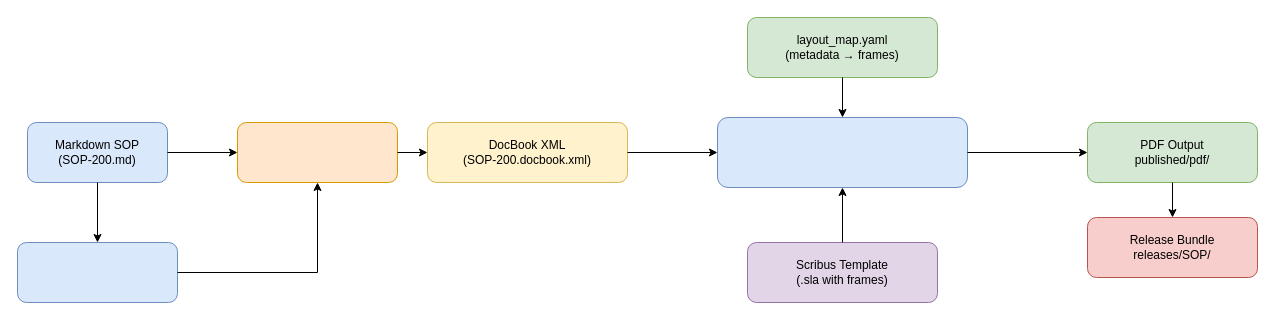
Some shapes in this 1275 by 320 pixel diagram are drawn without their labels. The shapes that lost their labels are listed below. From the top down, each one's box as (x1, y1, x2, y2) in pixels, then its label:
(236, 122, 398, 182): Pandoc md → DocBook XML
(716, 116, 968, 188): scribus_pipeline_advanced.py (runs inside Scribus)
(16, 242, 178, 302): YAML Front Matter
